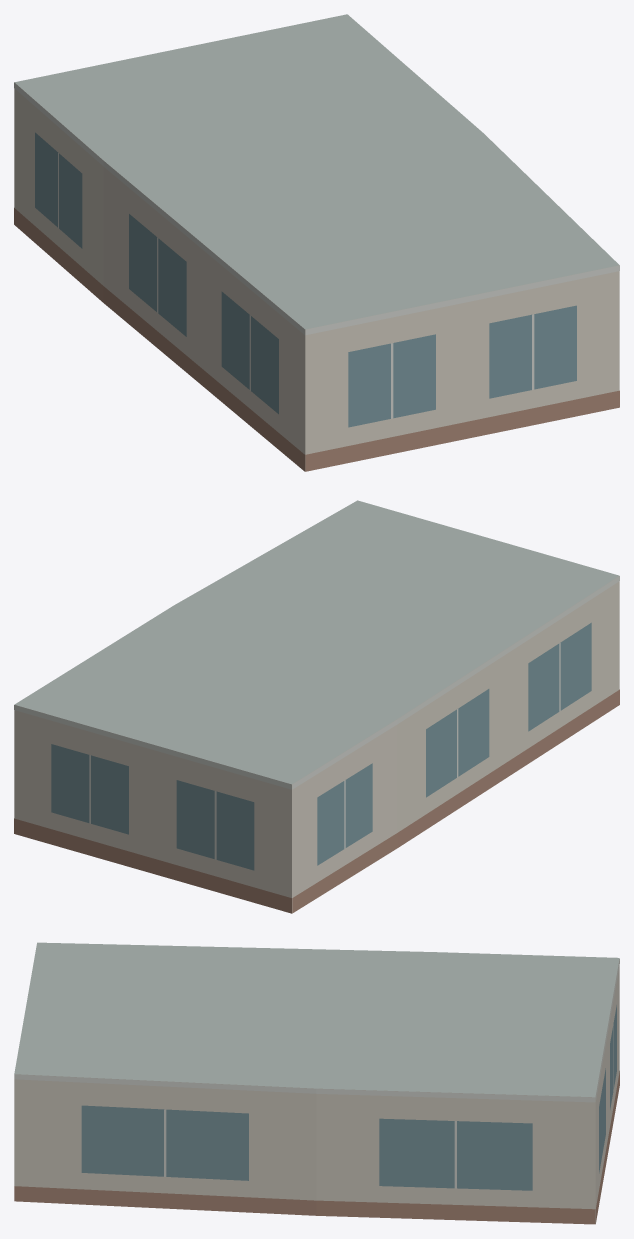
Rendered from survey-upis-32820890.glb.
3 views of the same model, one above another, from view 1: azimuth 30°, elevation 25°; view 2: azimuth 150°, elevation 25°; view 3: azimuth 270°, elevation 25° (orthographic). The views are drawn at different scales.
Parts seen in each view (by area): view 1: survey-upis-32820890.tmp; view 2: survey-upis-32820890.tmp; view 3: survey-upis-32820890.tmp.
Part boxes in pixels (box(x1,y1,x2,y2)): survey-upis-32820890.tmp: box(14, 14, 619, 471); survey-upis-32820890.tmp: box(14, 500, 619, 913); survey-upis-32820890.tmp: box(14, 942, 619, 1224).
Bounding box in the file's own units: 7.97 × 3.05 × 13.18.
